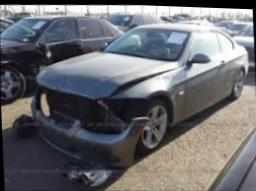Bonnet: (35, 49, 180, 98)
Bumper: (31, 83, 147, 166)
Light: (95, 95, 140, 114)
